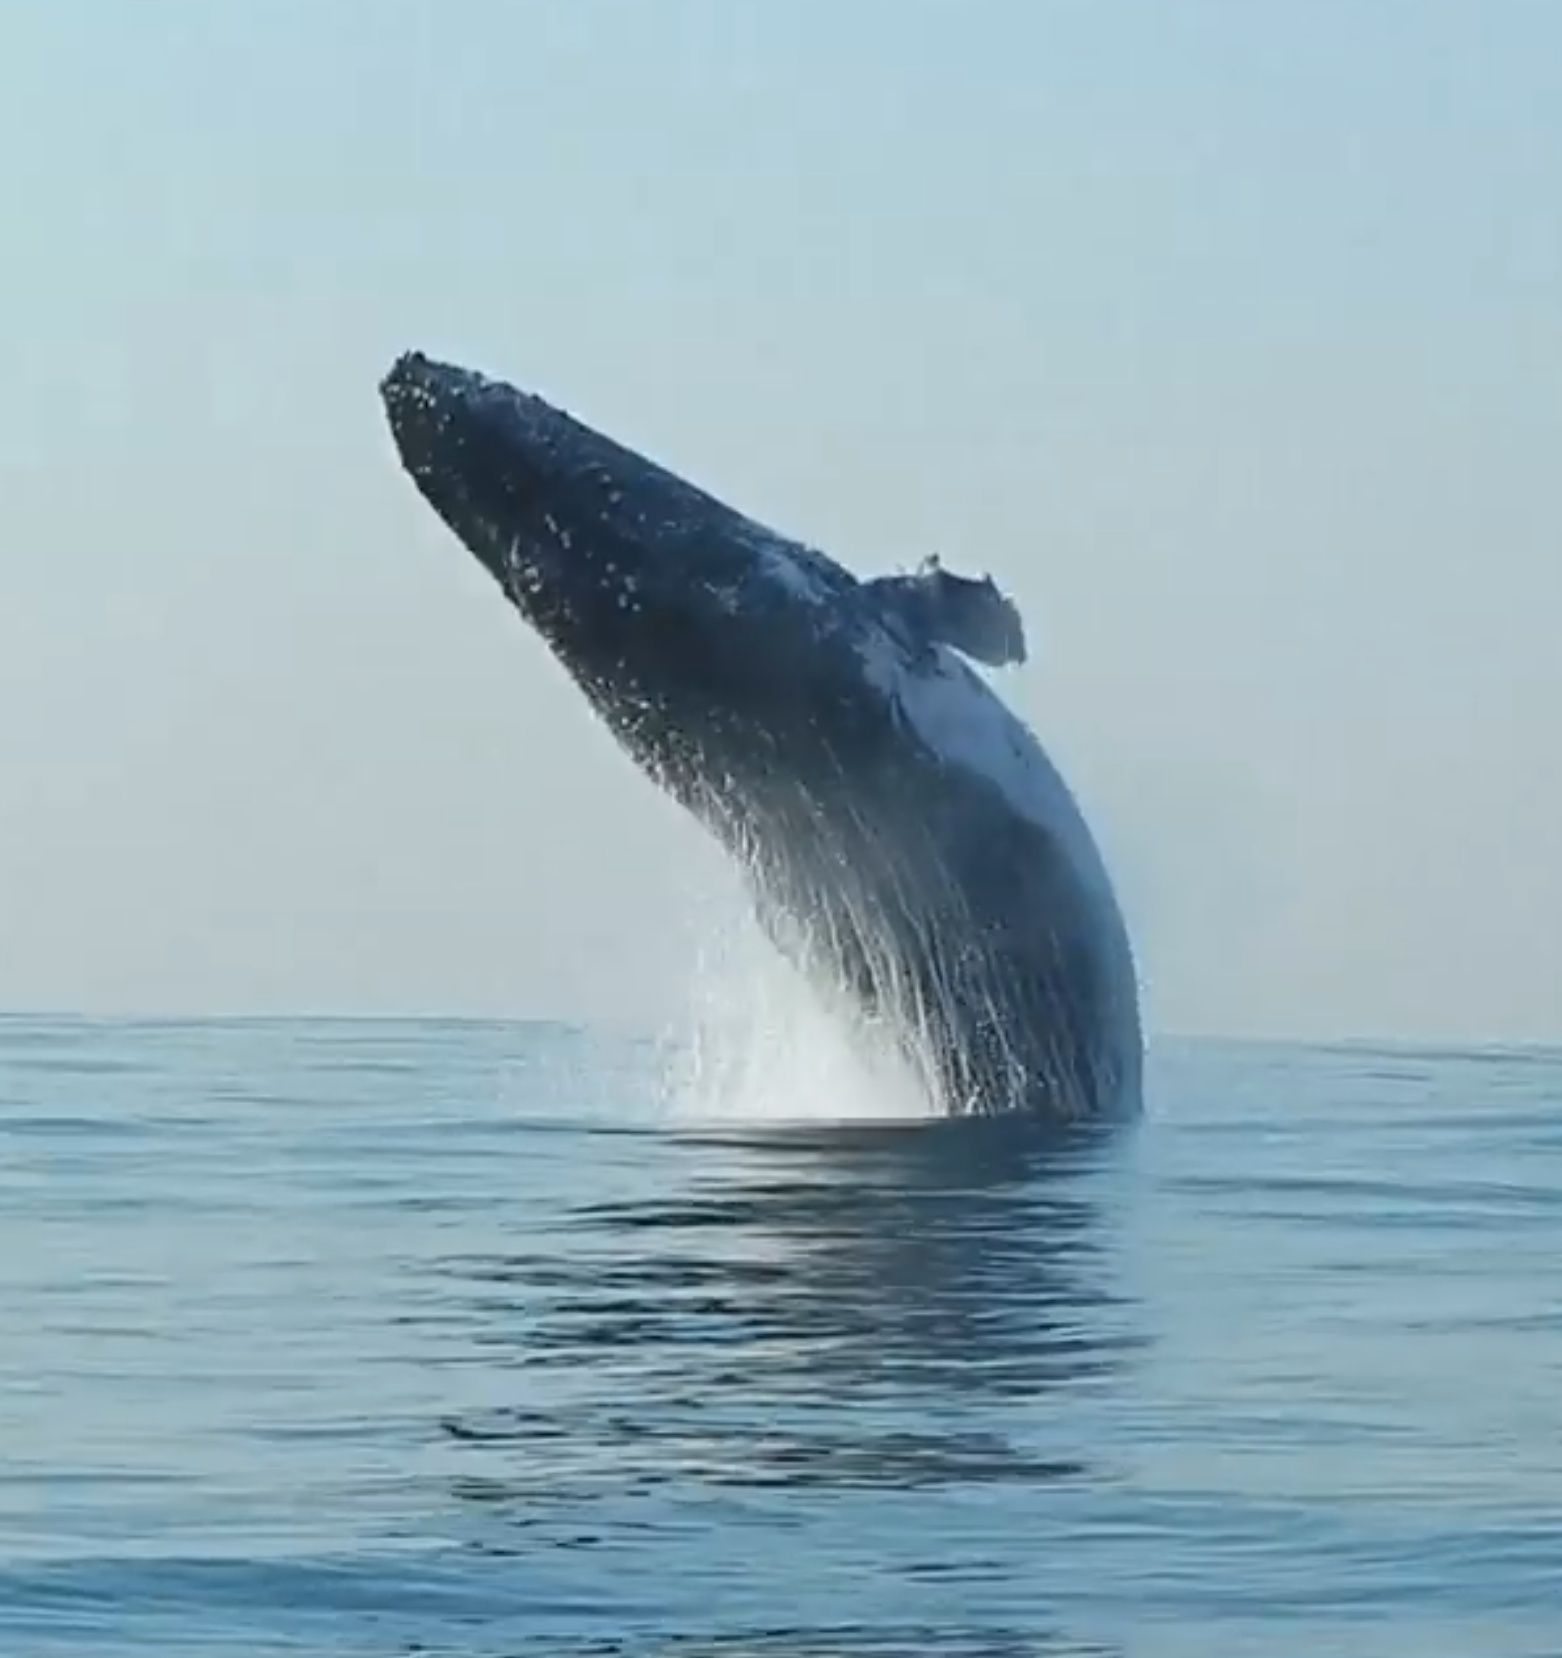humpback: (377, 344, 1148, 1119)
